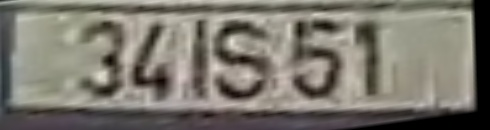1: (350, 17, 385, 104)
3: (69, 16, 134, 103)
4: (129, 21, 179, 105)
5: (290, 19, 351, 105)
I: (190, 16, 215, 105)
S: (209, 19, 273, 105)
